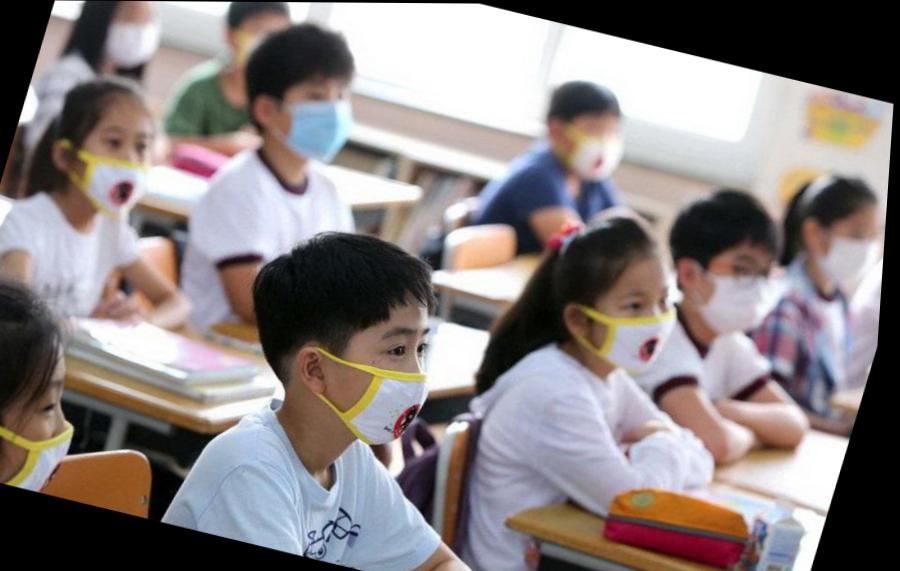OK: (575, 260, 696, 376), (264, 69, 364, 164), (689, 244, 788, 339), (800, 209, 889, 292), (552, 102, 639, 183), (88, 2, 171, 74)
WRONG: (313, 311, 456, 448), (1, 371, 97, 498), (59, 114, 165, 215)
